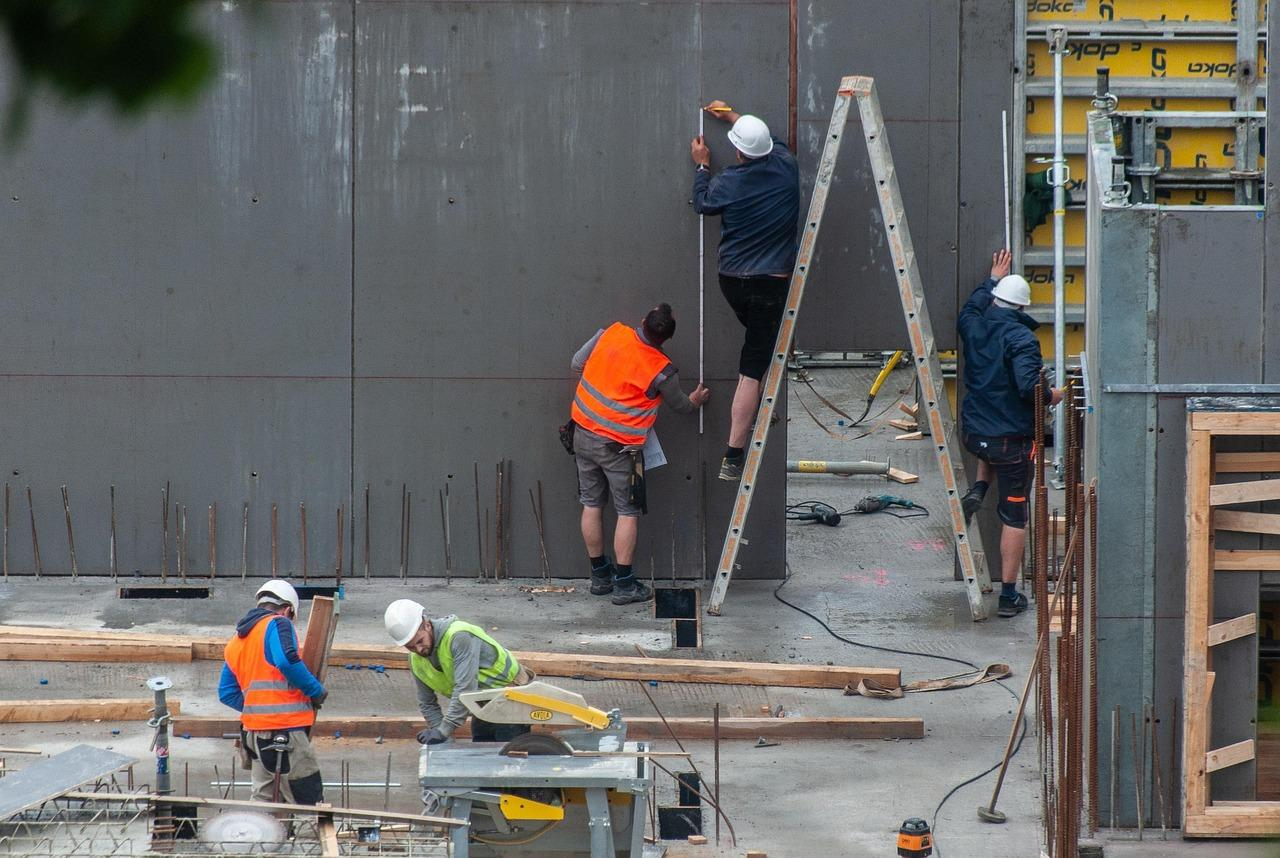capacete: (947, 251, 1063, 627), (981, 265, 1041, 319), (727, 114, 787, 165), (375, 599, 440, 644), (253, 576, 308, 627)
luva: (417, 725, 447, 749)
pessoa: (545, 296, 707, 608), (688, 95, 808, 486), (205, 574, 351, 828), (375, 588, 579, 755)
uniforme seguranca: (577, 320, 668, 451), (229, 623, 324, 733), (413, 615, 530, 704)
